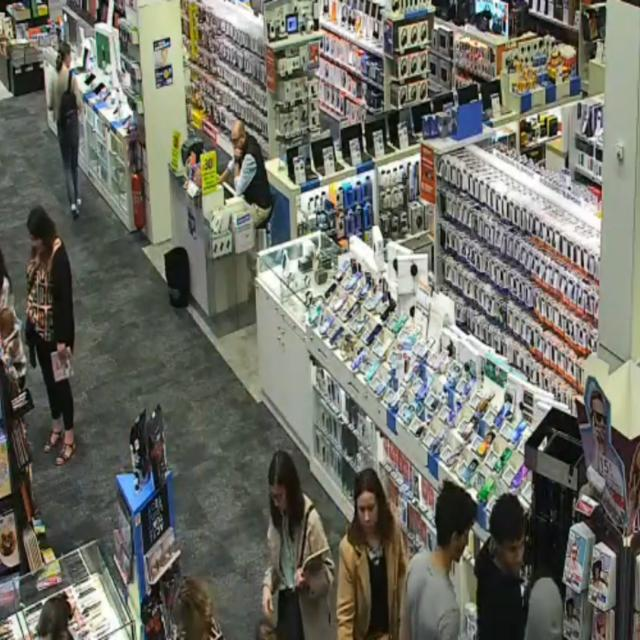article: (51, 346, 74, 383), (301, 546, 329, 574)
bags: (278, 589, 304, 639), (58, 72, 78, 133)
hands: (263, 586, 273, 618), (295, 568, 306, 589), (57, 343, 69, 362), (28, 345, 37, 367), (234, 147, 242, 161)
person: (263, 451, 335, 639), (26, 207, 75, 465), (400, 482, 476, 639), (338, 469, 407, 639), (475, 495, 526, 639), (48, 42, 83, 218), (221, 121, 272, 229), (173, 578, 223, 639), (525, 578, 563, 639), (0, 308, 26, 389)
